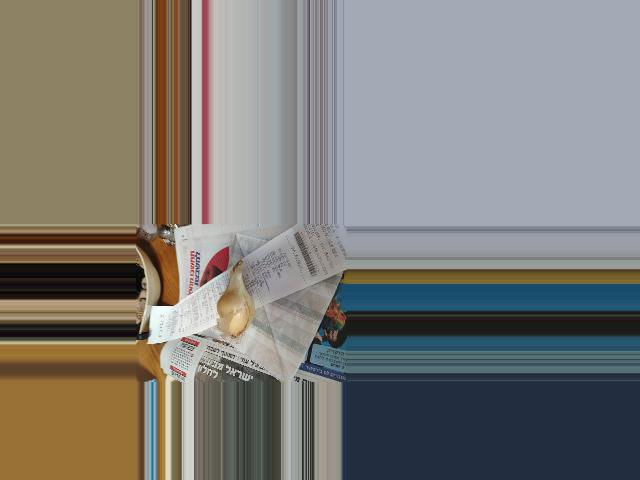onion: (219, 283, 254, 337)
